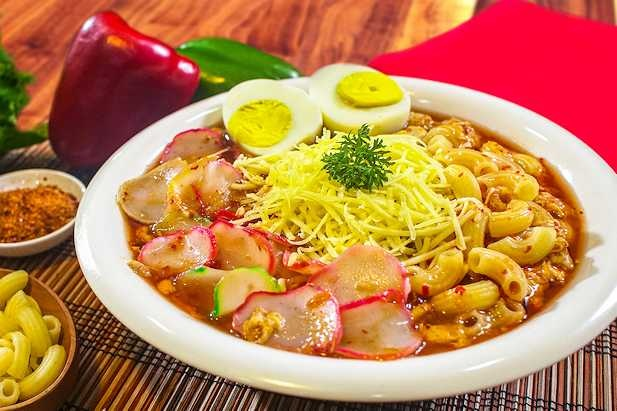seblak: (115, 66, 591, 364)
